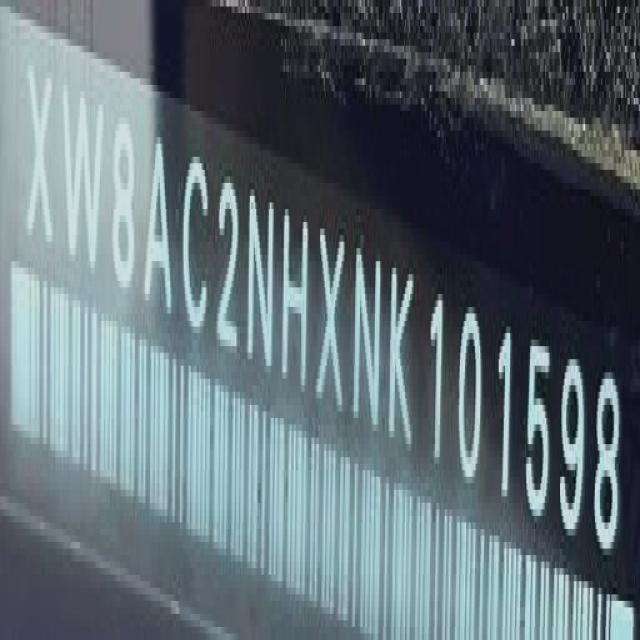0: (456, 290, 484, 491)
1: (498, 317, 514, 510), (430, 283, 444, 481)
2: (215, 167, 240, 360)
5: (526, 329, 552, 525)
8: (111, 111, 137, 307), (595, 372, 620, 554)
9: (559, 355, 585, 542)
A: (144, 131, 173, 324)
C: (182, 126, 210, 334)
H: (281, 203, 309, 397)
K: (389, 235, 414, 464)
N: (352, 237, 386, 448), (248, 174, 274, 387)
W: (62, 75, 105, 276)
X: (315, 208, 345, 423), (27, 48, 54, 250)
